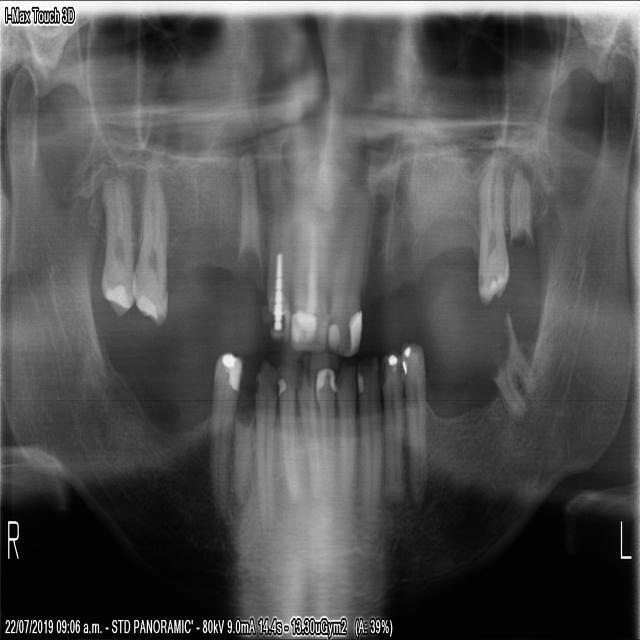LCD: (357, 360, 384, 527)
LID: (338, 363, 360, 526), (316, 366, 336, 522)
LIU: (324, 183, 370, 357)
LMD: (492, 305, 536, 426)
LMU: (476, 149, 511, 308), (509, 157, 538, 251)
LPMD: (402, 337, 428, 510), (382, 346, 405, 508)
RCD: (254, 360, 277, 532)
RCU: (238, 152, 265, 296)
RID: (295, 369, 322, 504), (278, 368, 302, 510)
RIU: (290, 180, 327, 355), (266, 177, 291, 338)
RMU: (131, 160, 169, 327), (99, 172, 133, 319)
RPMD: (207, 352, 243, 518)
